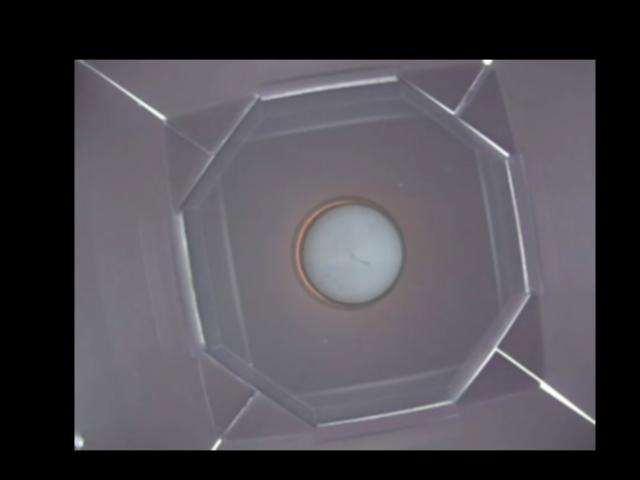Cup: (291, 193, 405, 307)
